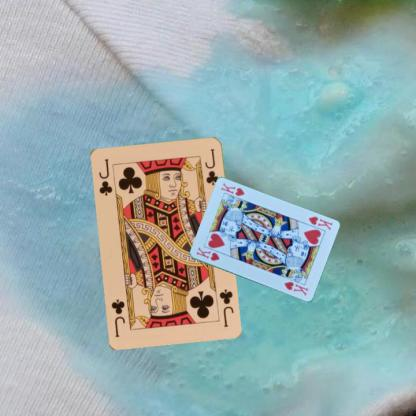Jc: (216, 286, 235, 328), (96, 156, 113, 196)
Kh: (306, 214, 333, 232), (194, 245, 221, 262)
